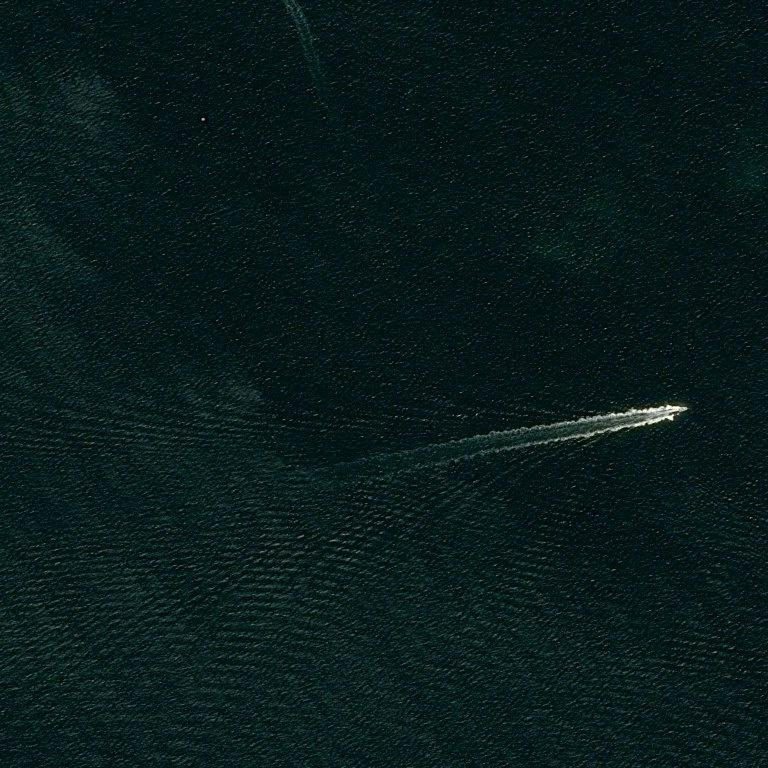ship: (669, 407, 689, 411), (671, 406, 676, 409), (686, 407, 688, 410), (671, 390, 676, 390)
